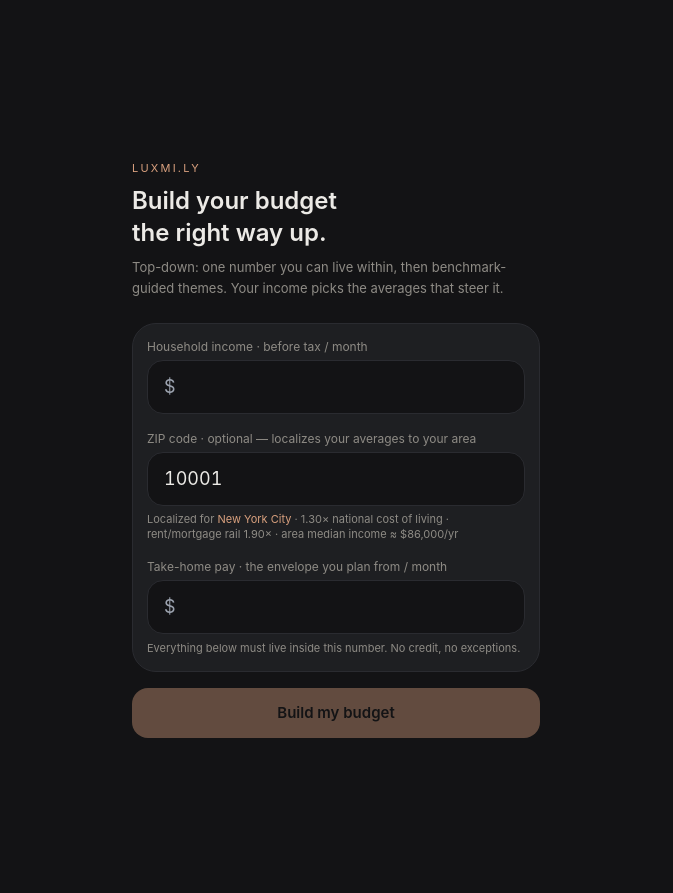
it: App — an optimizer, not a tracker › builds a clean dashboard with pay-first strip and every theme, including Travel
Type "10000" into the number field named "Household income before tax per month". click: point(336, 387)
box: [147,360,525,414]
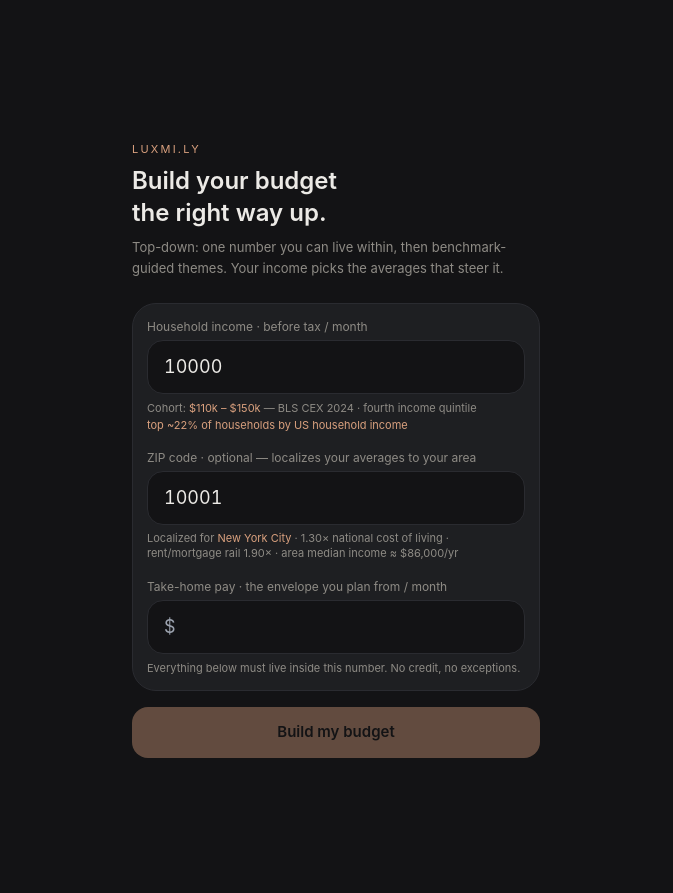
Type "6800" into the number field named "Take-home pay per month". click: point(336, 626)
box: [147,600,525,654]
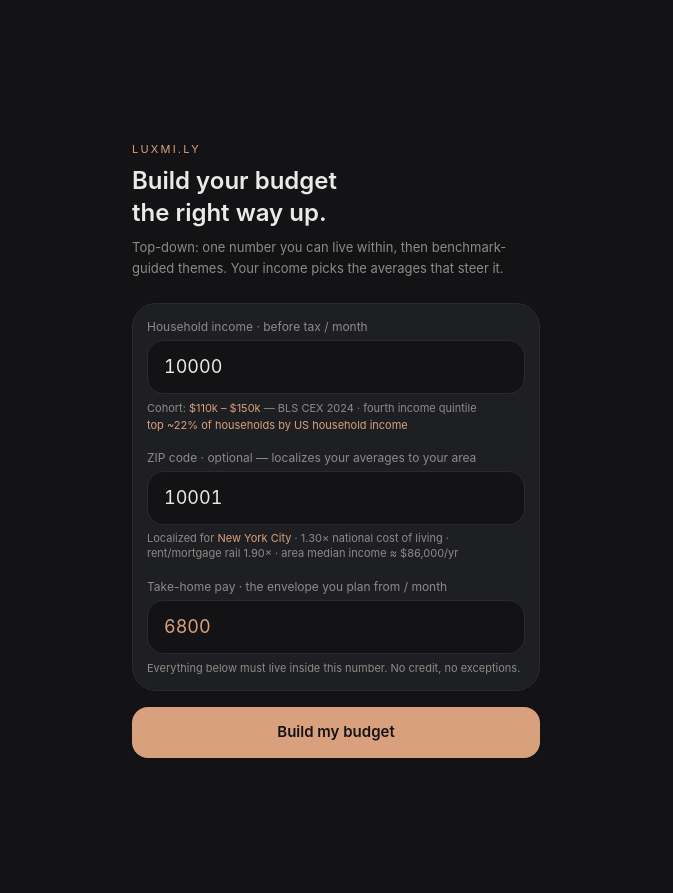
Click the button "Build my budget". click: point(336, 732)
box: [132,707,540,758]
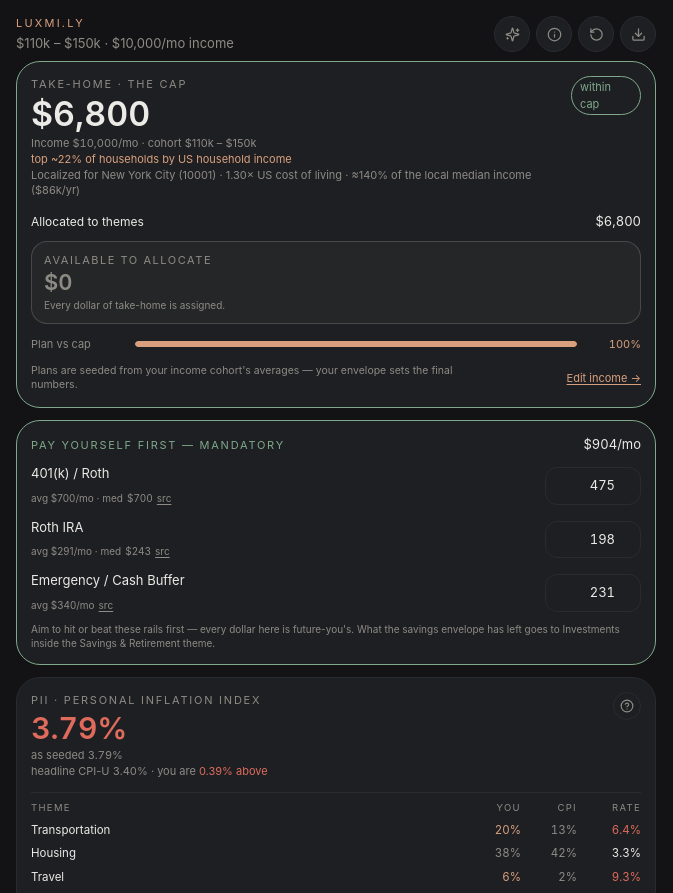
expect the text "Take-home · the Cap" is shown: met, box [31,77,187,91]
expect the text "Pay yourself first — mandatory" is shown: met, box [31,437,285,453]
expect the text "Travel" is shown: met, box [31,870,64,884]
